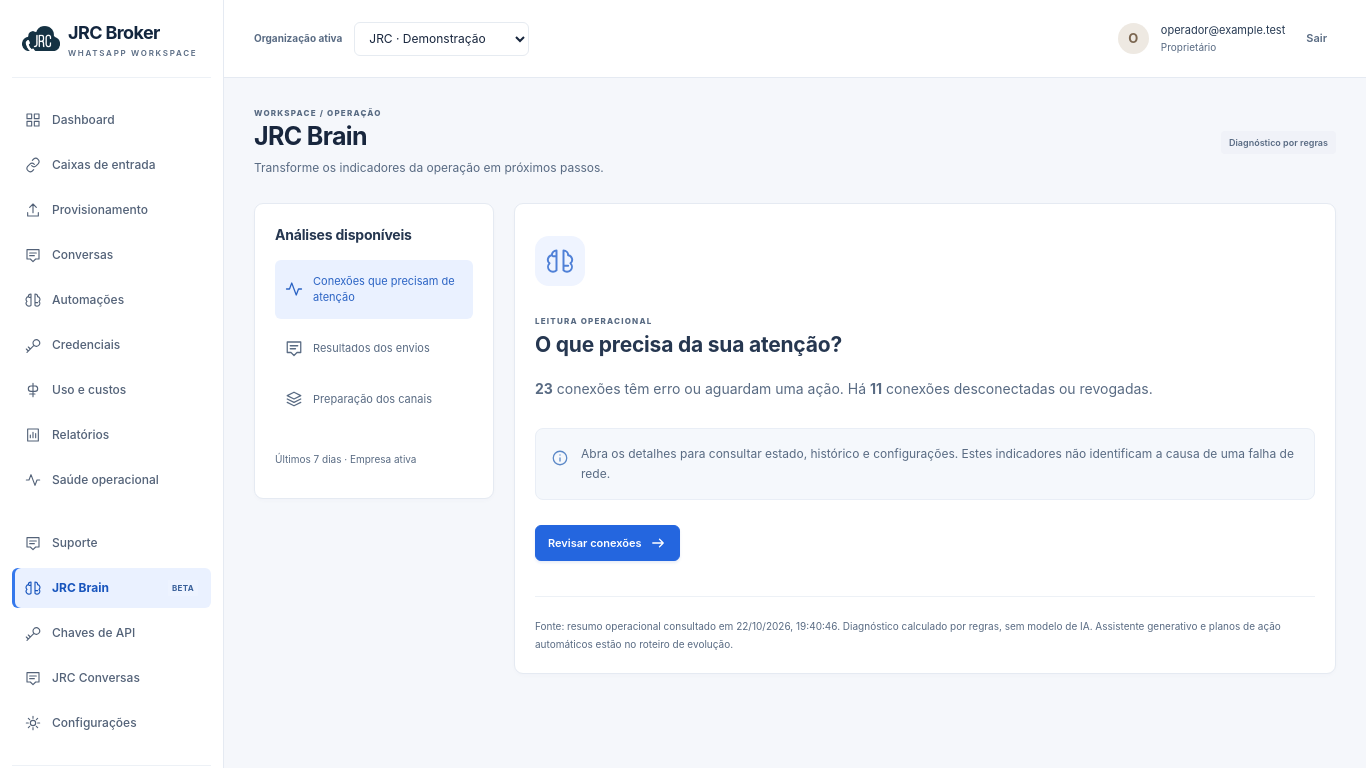
Scenario: JRC Brain distingue diagnóstico por regras de uma IA generativa
Check: the heading "O que precisa da sua atenção?" is shown, box [535,332,842,358]
Click the button "Resultados dos envios" at (374,348), box [275,326,473,370]
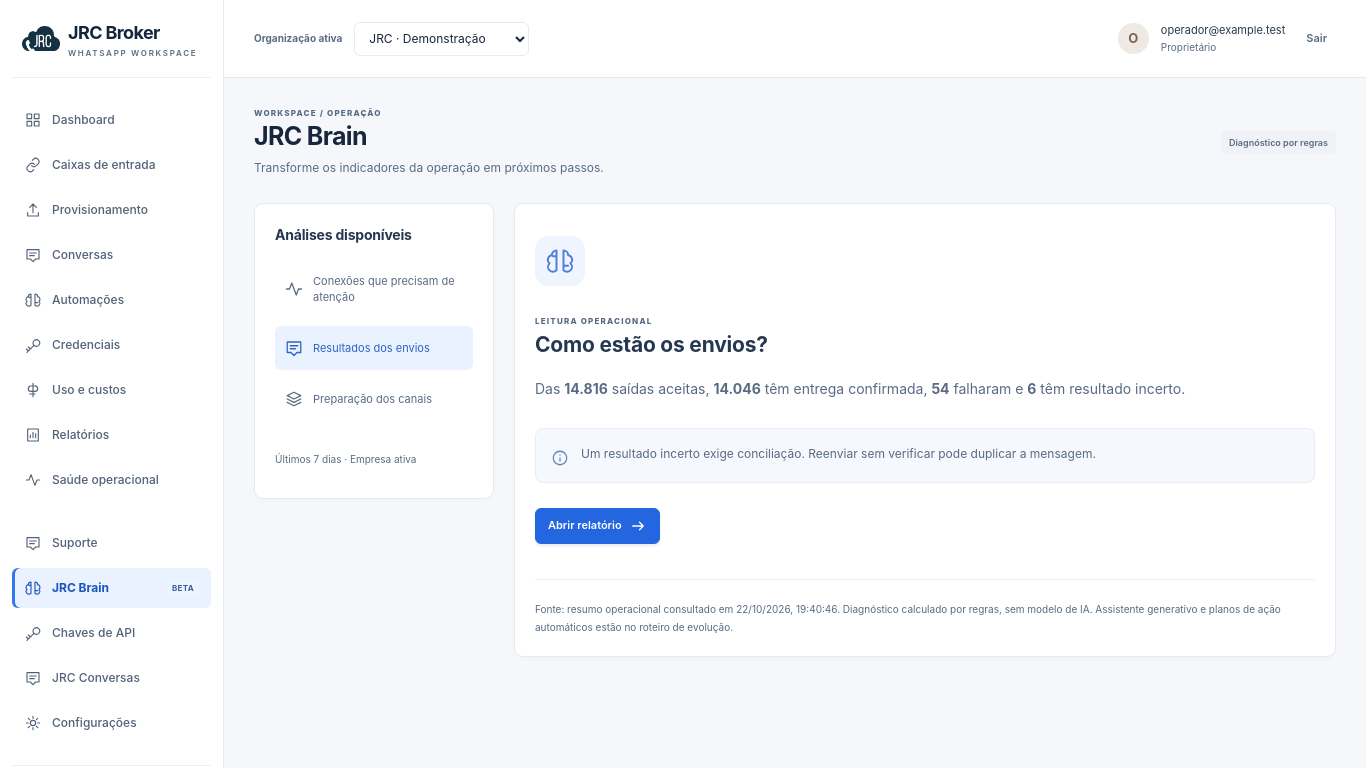
Check: the text "sem modelo de IA" is shown, box [535,603,1281,633]
Check: the heading "Como estão os envios?" is shown, box [535,332,768,358]
